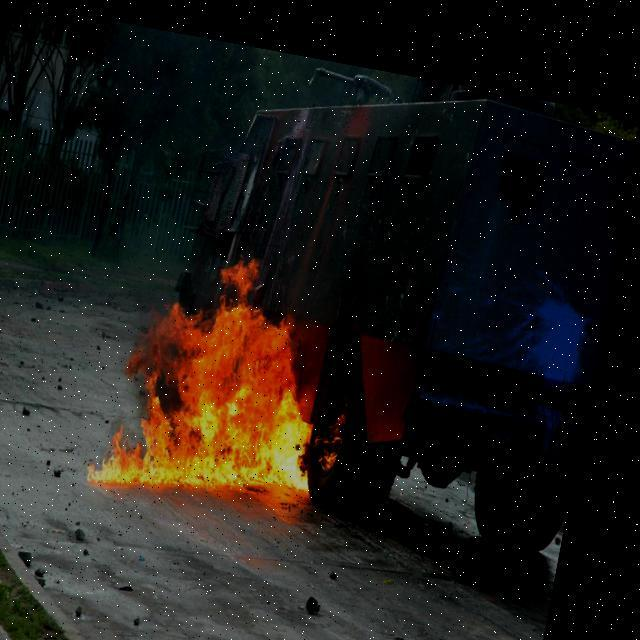Fire: (115, 234, 371, 500)
